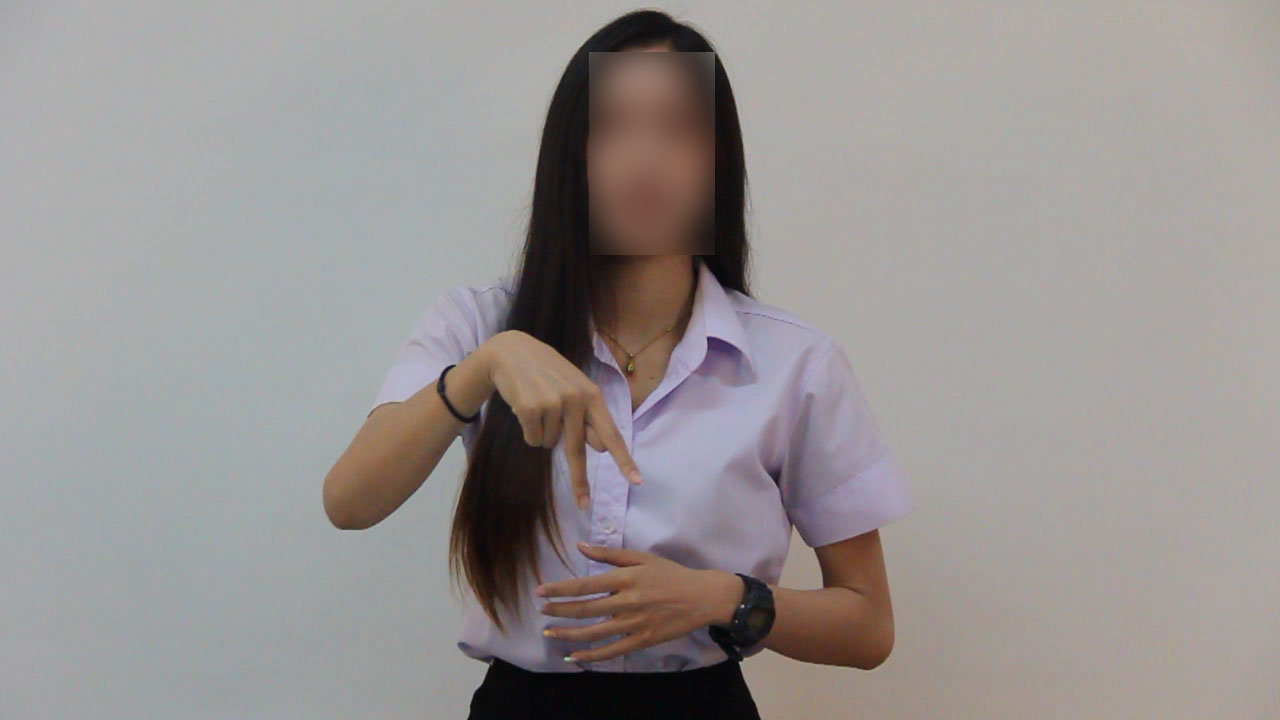por: (480, 315, 651, 518)
